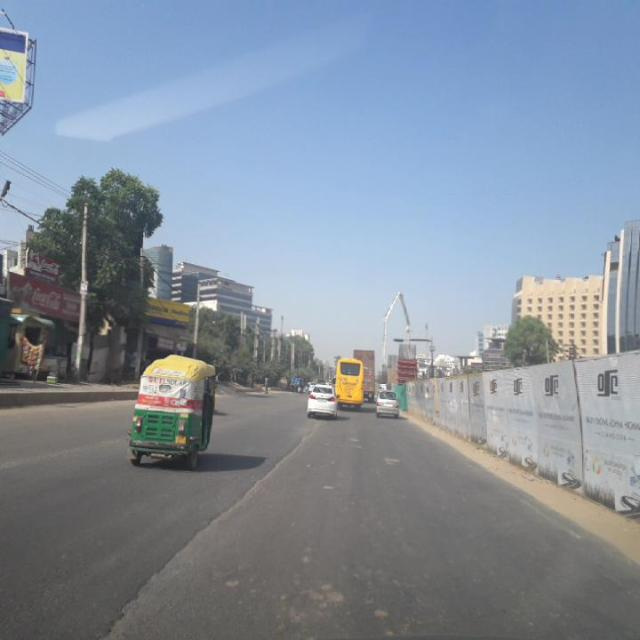D00: (219, 412, 334, 510)
